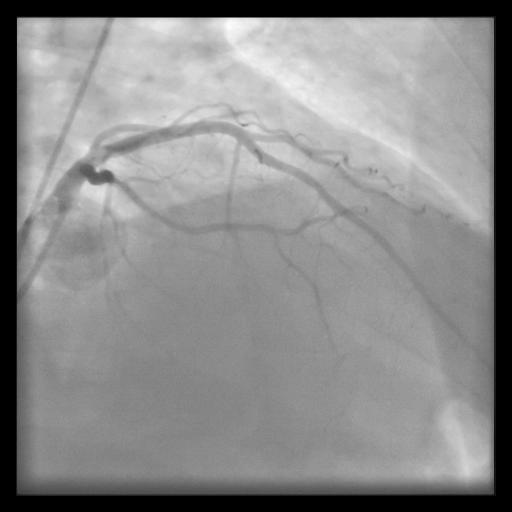Stenosis: (103, 169, 133, 196)
